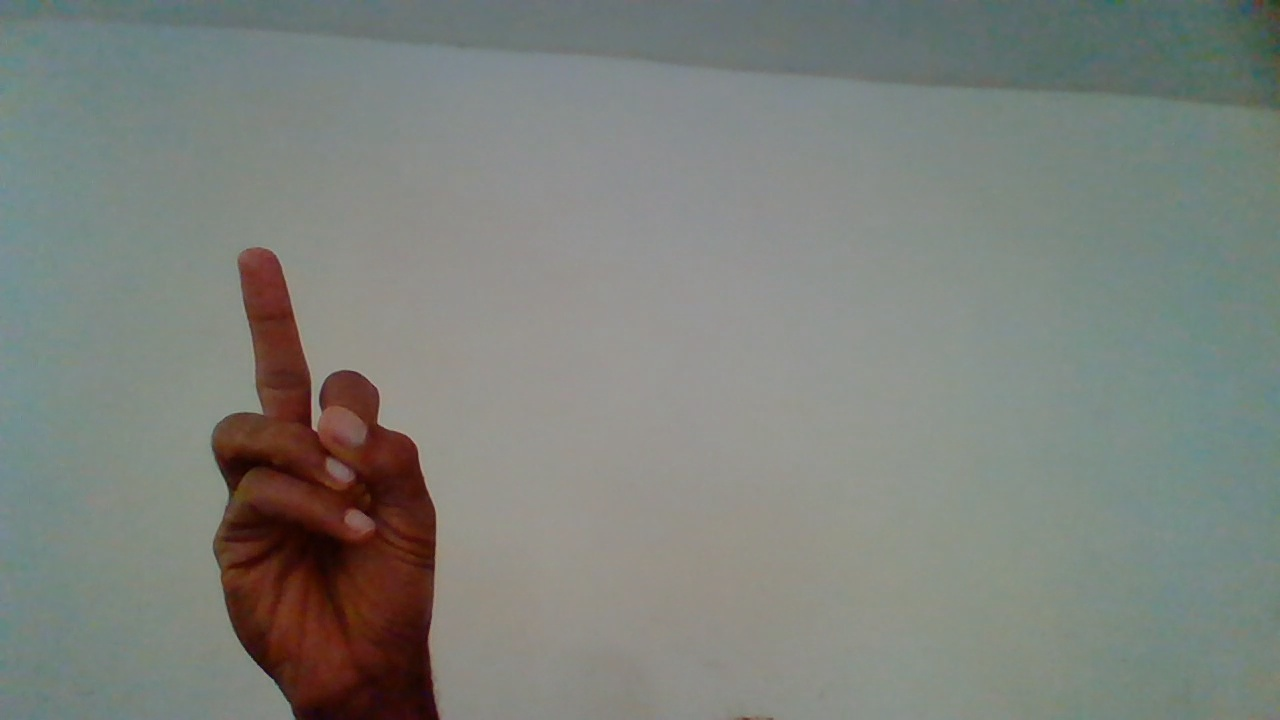he: (211, 250, 447, 716)
